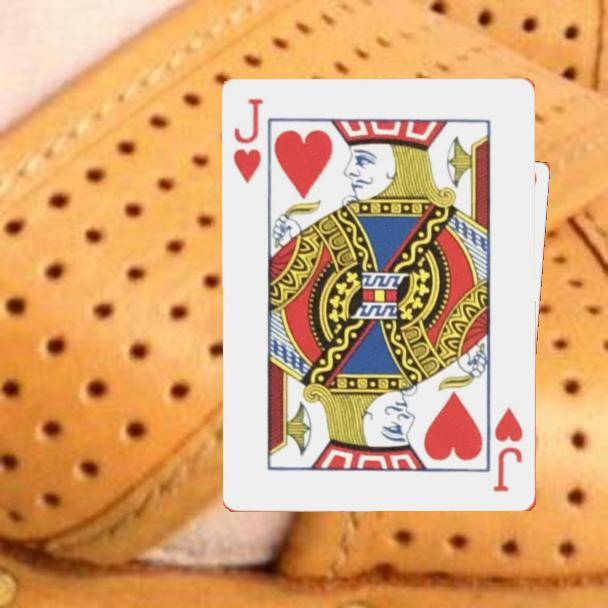h11: (230, 95, 266, 187), (490, 404, 526, 495)
